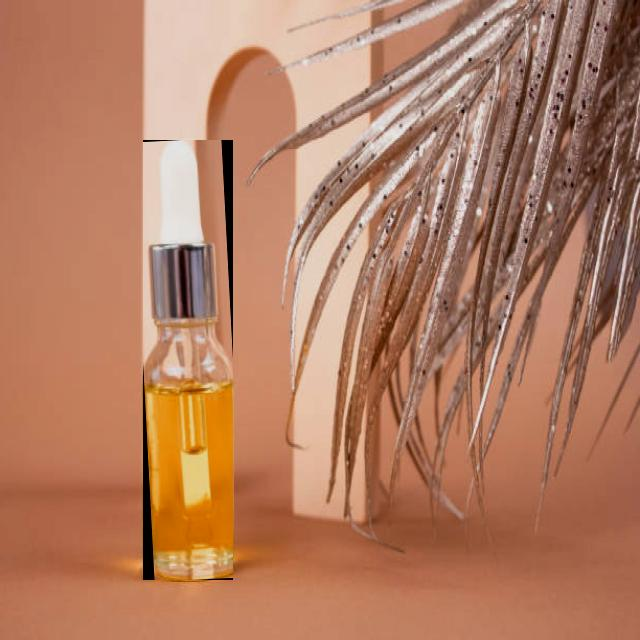Bottle: (143, 140, 232, 580)
